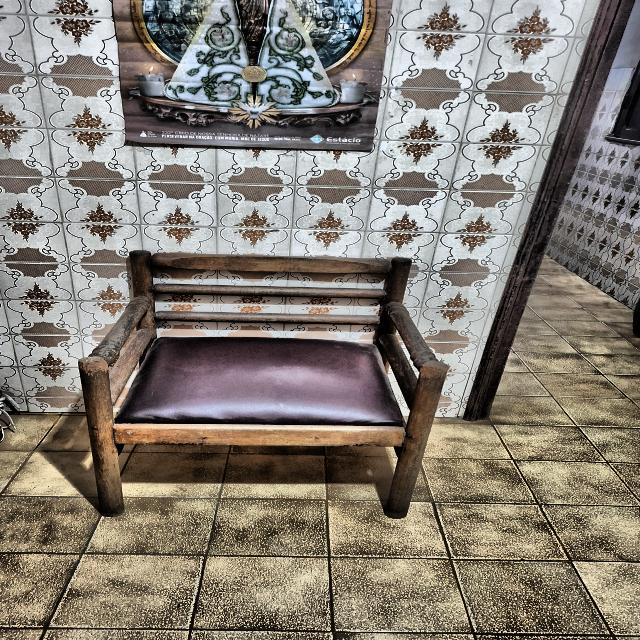cadeira: (55, 224, 484, 538)
